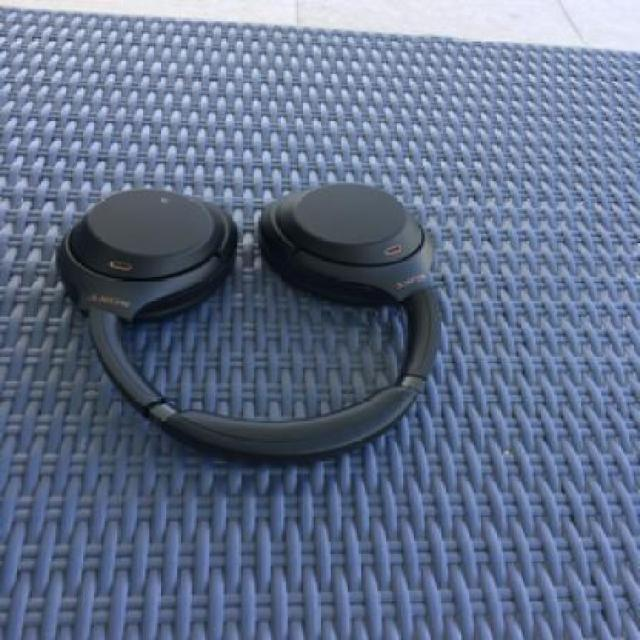earphone: (32, 125, 545, 478)
